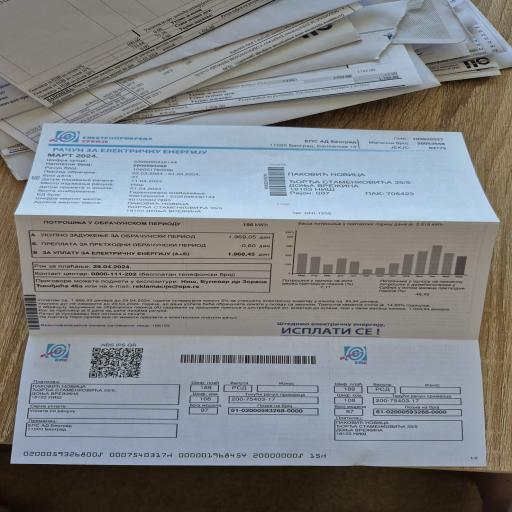racun_za_struju: (23, 216, 280, 271)
